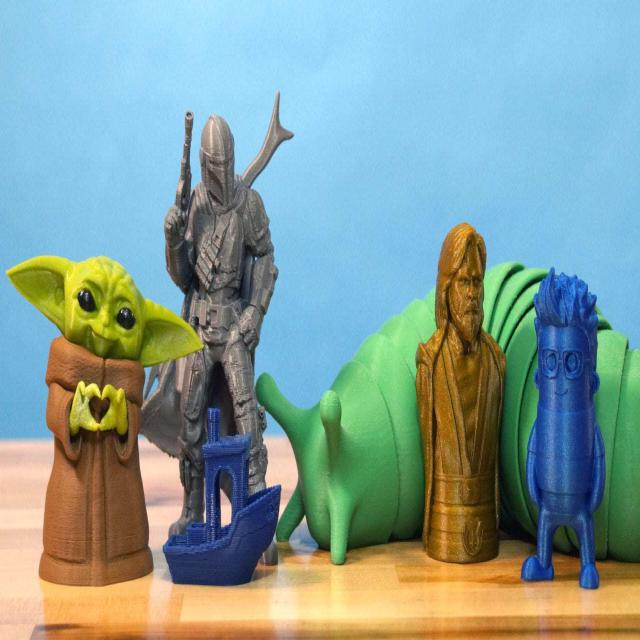Without deffect: (11, 89, 618, 629)
